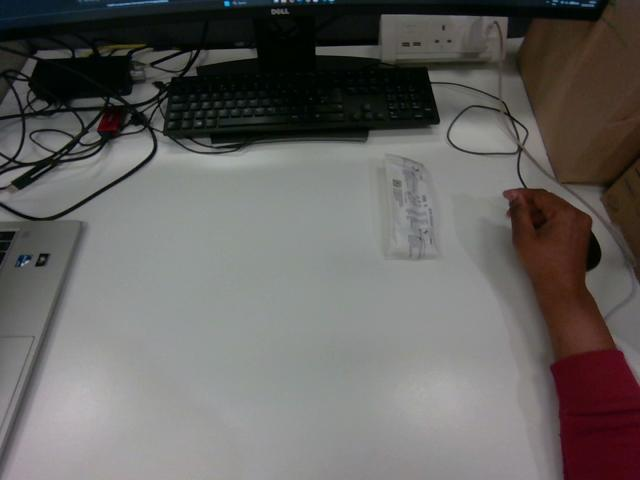syringe: (385, 154, 436, 259)
